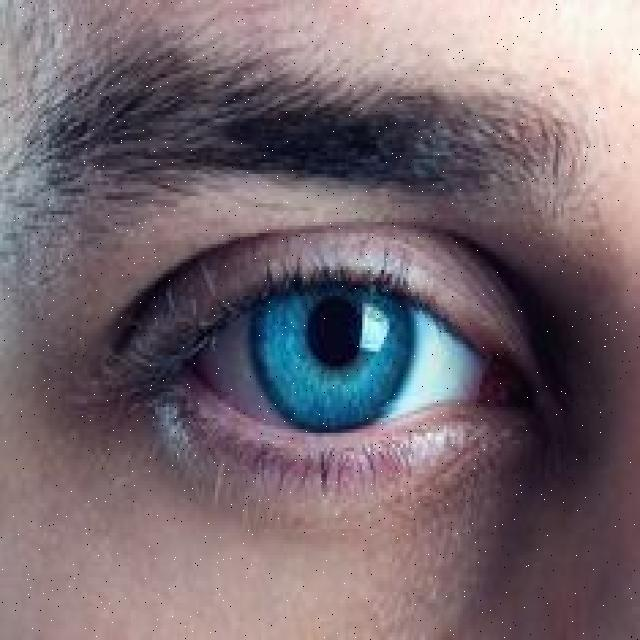Normal: (79, 205, 568, 518)
